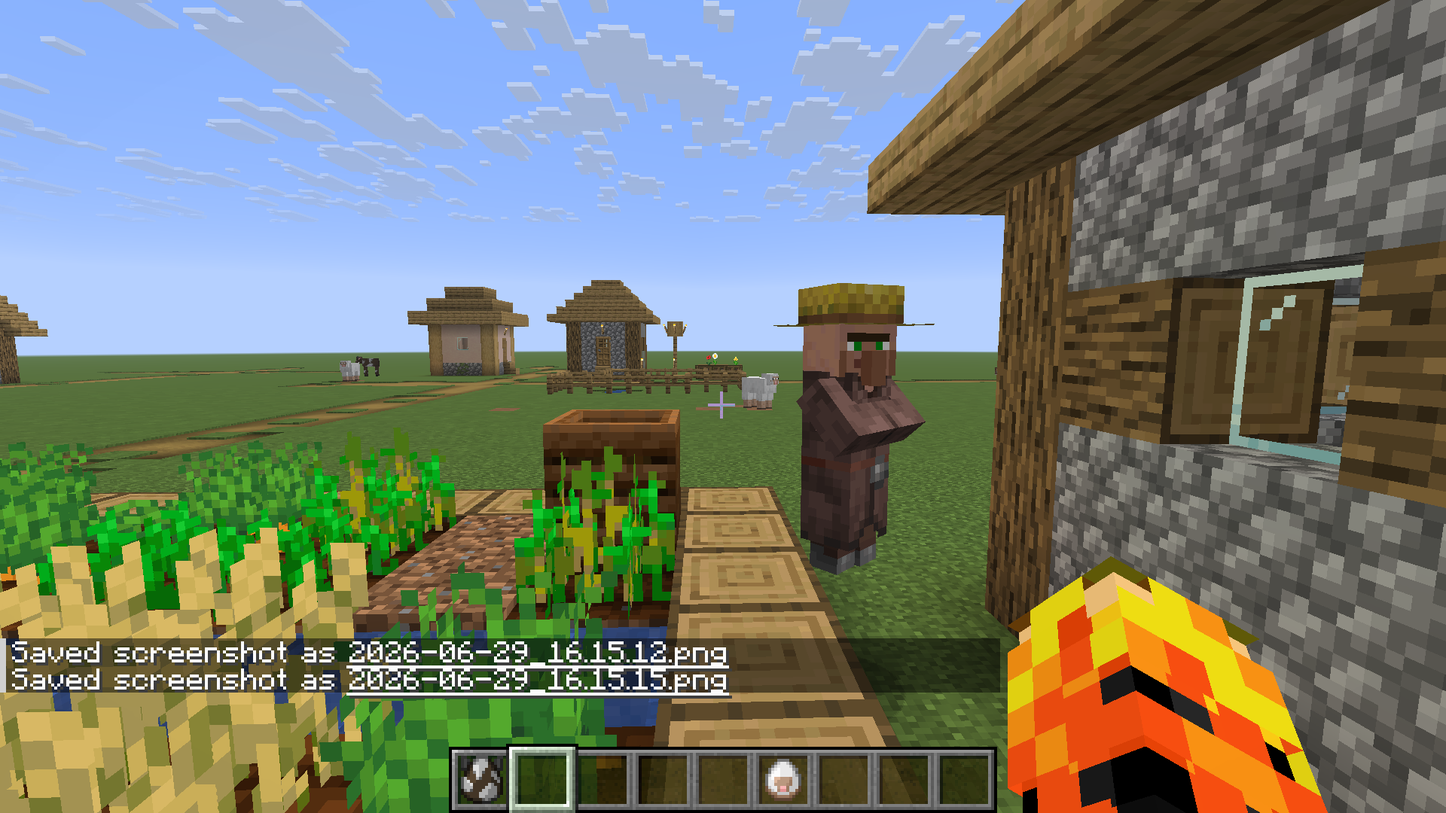Sheep: (740, 369, 781, 413)
villager: (785, 273, 934, 583)
wood: (1068, 281, 1245, 443), (690, 488, 816, 612)
